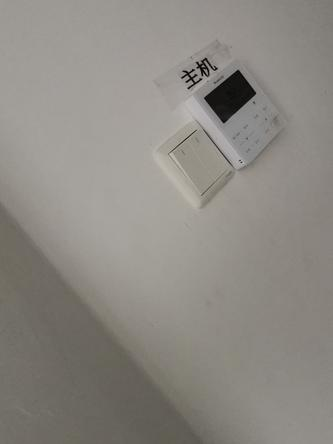switch: (168, 140, 215, 197), (184, 130, 230, 180)
